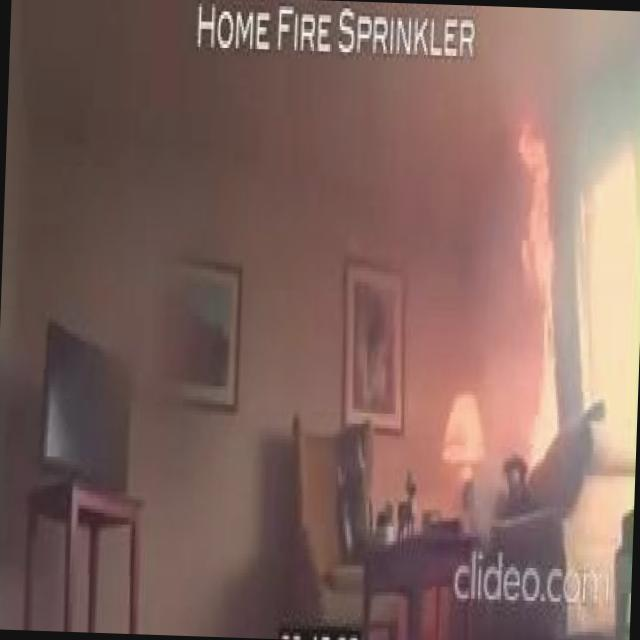fire: (476, 93, 585, 482)
